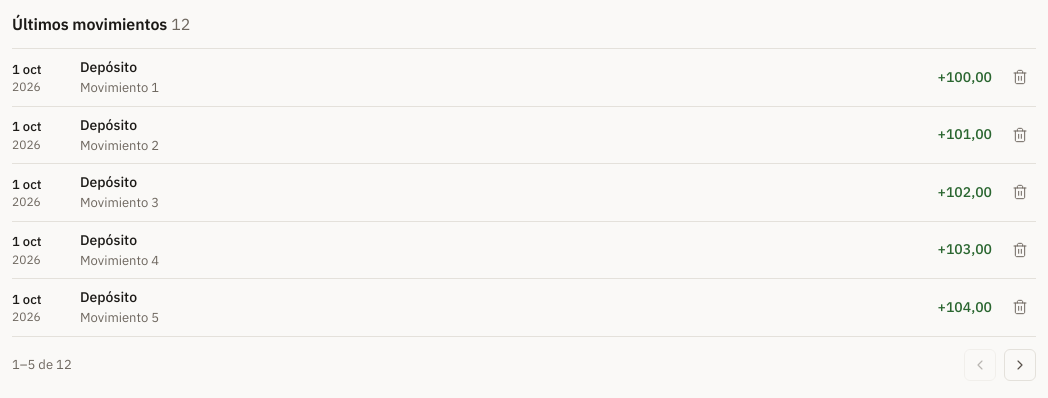
MovementsList pagination › moves page by page with the arrows and shows where you are
Expected: the button named "Movimientos más recientes" is disabled, [964, 348, 996, 380]
Click the button named "Movimientos anteriores": [1020, 364] box [1004, 348, 1036, 380]
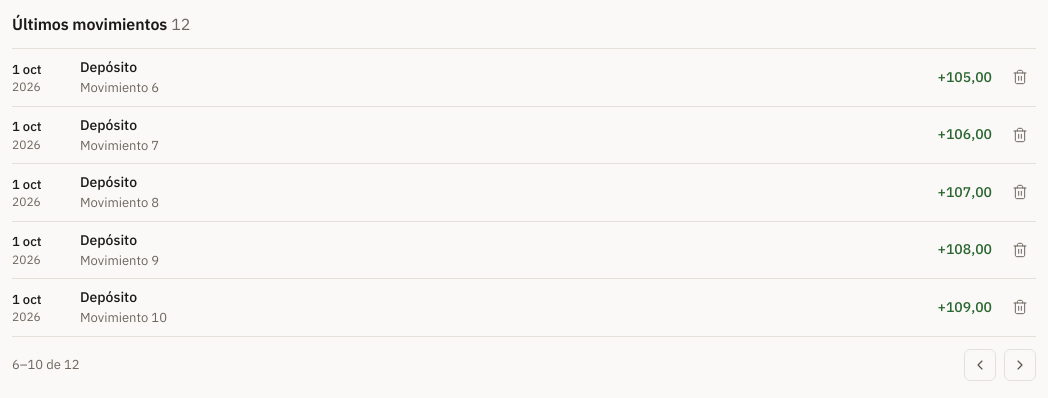
Now the text with test id "movements-range" reads "6–10 de 12", box [12, 355, 80, 374]
Now the list item "1 oct 2026 Depósito Movimiento 6 +105,00" is shown, box [12, 49, 1036, 106]
Click the button named "Movimientos anteriores": [1020, 364] box [1004, 348, 1036, 380]
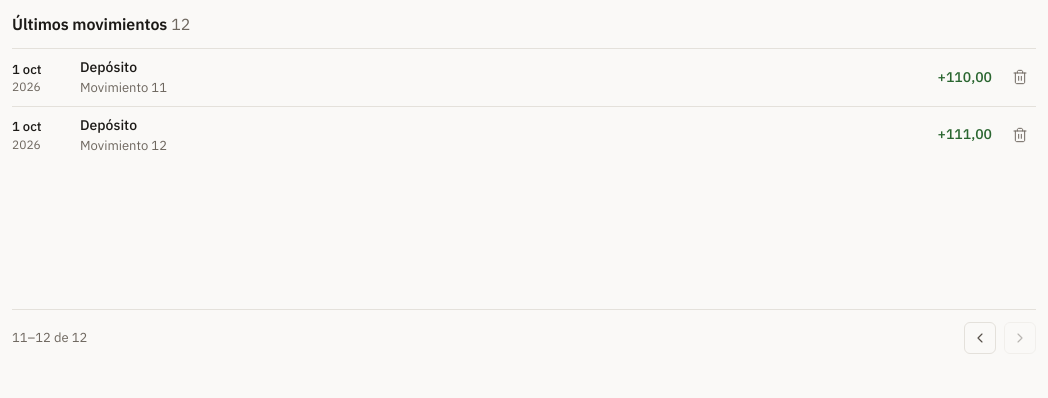
Now the text with test id "movements-range" reads "11–12 de 12", box [12, 328, 87, 348]
Now the number of list items is 2, box [12, 49, 1036, 106]; [12, 106, 1036, 163]
Now the button named "Movimientos anteriores" is disabled, box [1004, 322, 1036, 354]
Click the button named "Movimientos más recientes": [980, 338] box [964, 322, 996, 354]
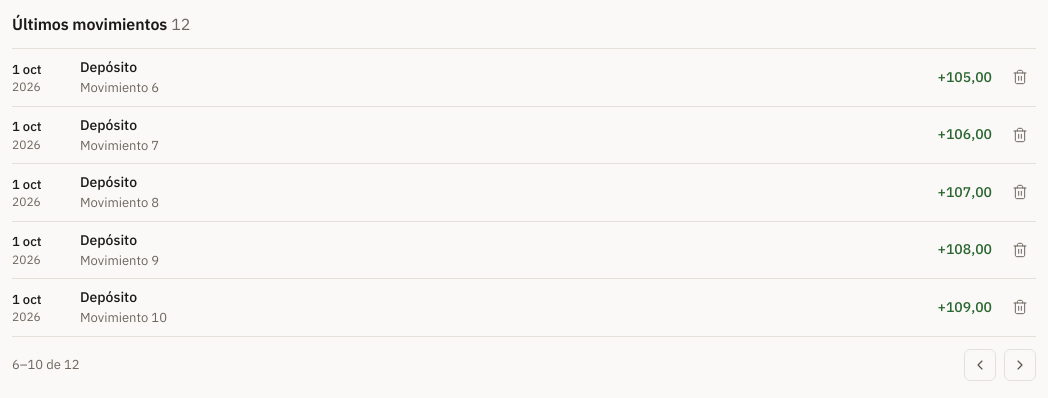
Now the text with test id "movements-range" reads "6–10 de 12", box [12, 355, 80, 374]
